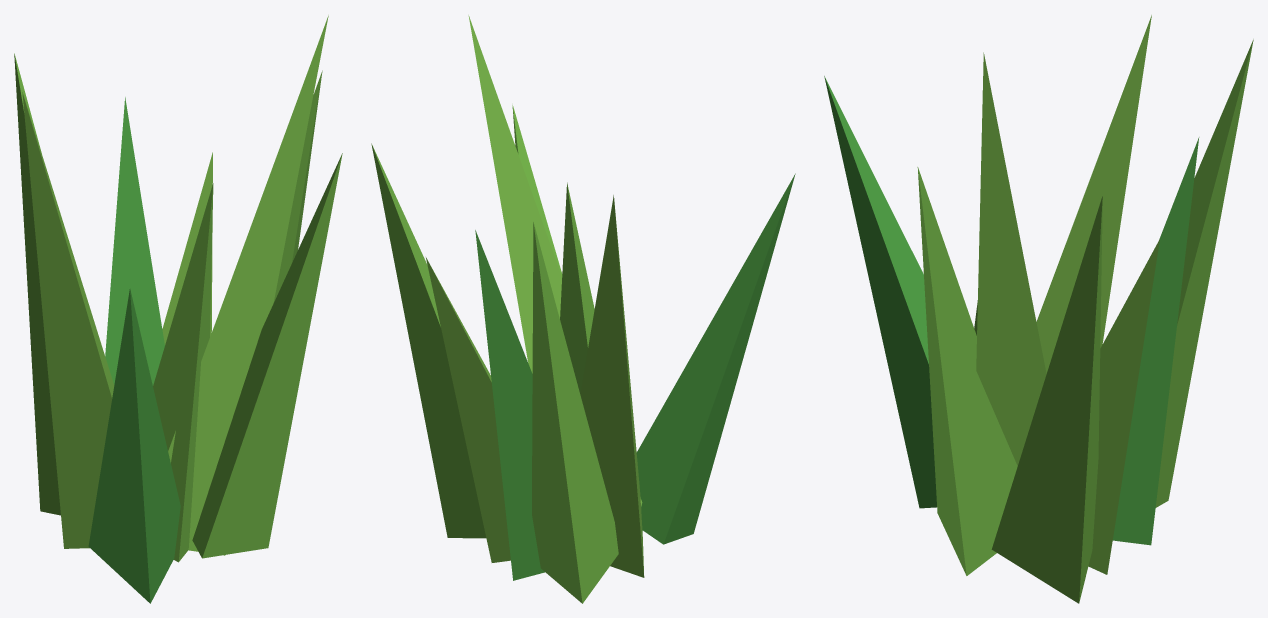
The model's file is Grass_Tuft_B.fbx.
The picture shows the model from 3 angles, left to right: view 1: azimuth 30°, elevation 25°; view 2: azimuth 150°, elevation 25°; view 3: azimuth 270°, elevation 25°; orthographic projection. The views are drawn at different scales.
Visible parts, largest first — view 1: Grass_Tuft_B; view 2: Grass_Tuft_B; view 3: Grass_Tuft_B.
Part boxes in pixels (x1=…): Grass_Tuft_B: x1=14, y1=15, x2=342, y2=603; Grass_Tuft_B: x1=371, y1=15, x2=795, y2=603; Grass_Tuft_B: x1=824, y1=15, x2=1253, y2=603.
Bounding box in the file's own units: 0.3761 × 0.5822 × 0.3993.
